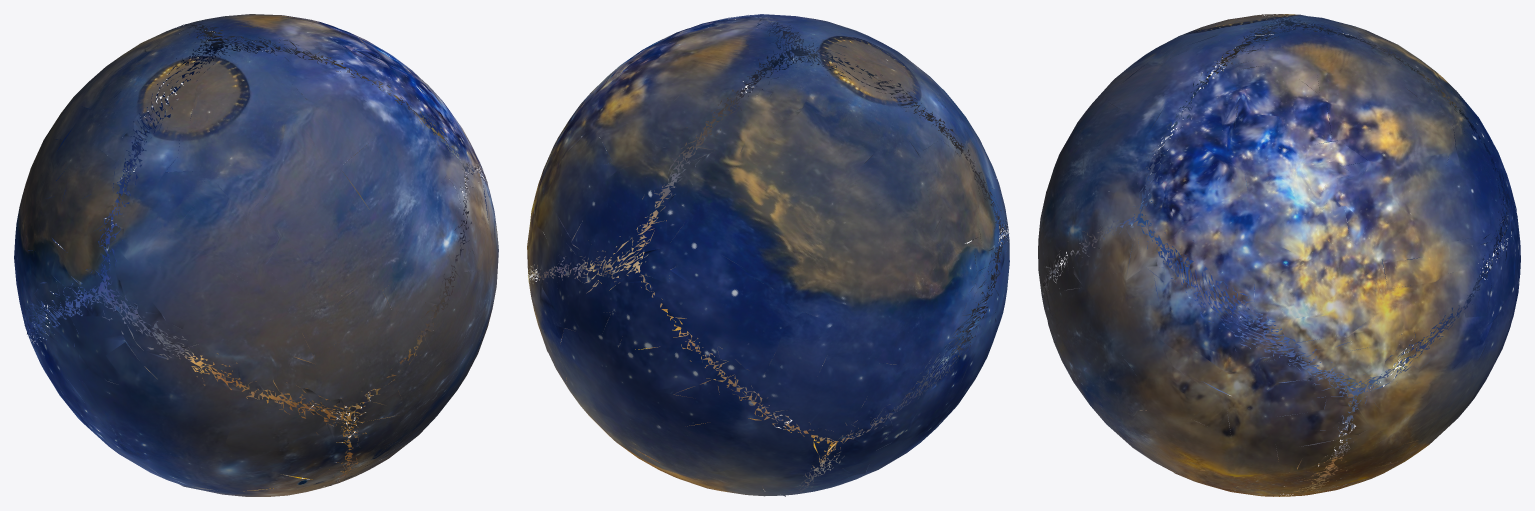
Rendered from Mercury.glb.
The picture shows the model from 3 angles, left to right: view 1: azimuth 30°, elevation 25°; view 2: azimuth 150°, elevation 25°; view 3: azimuth 270°, elevation 25°; orthographic projection.
Parts seen in each view (by area): view 1: Mesh_0; view 2: Mesh_0; view 3: Mesh_0.
Part boxes in pixels (x1=…): Mesh_0: x1=14, y1=14, x2=498, y2=496; Mesh_0: x1=527, y1=14, x2=1009, y2=496; Mesh_0: x1=1038, y1=14, x2=1520, y2=496.
Bounding box in the file's own units: 2.01 × 2 × 2.
1 material, 1 textured.
